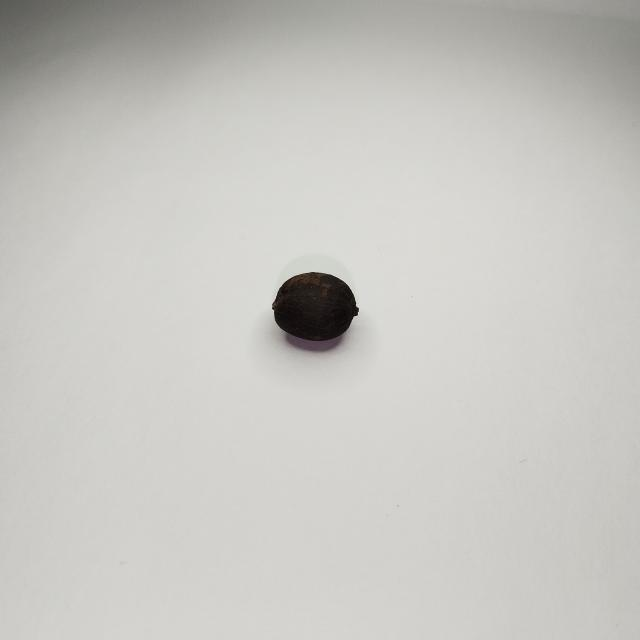Danado: (272, 271, 358, 349)
